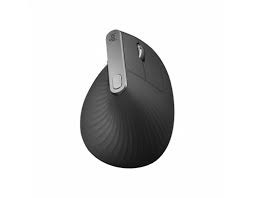mouse: (72, 24, 178, 174)
